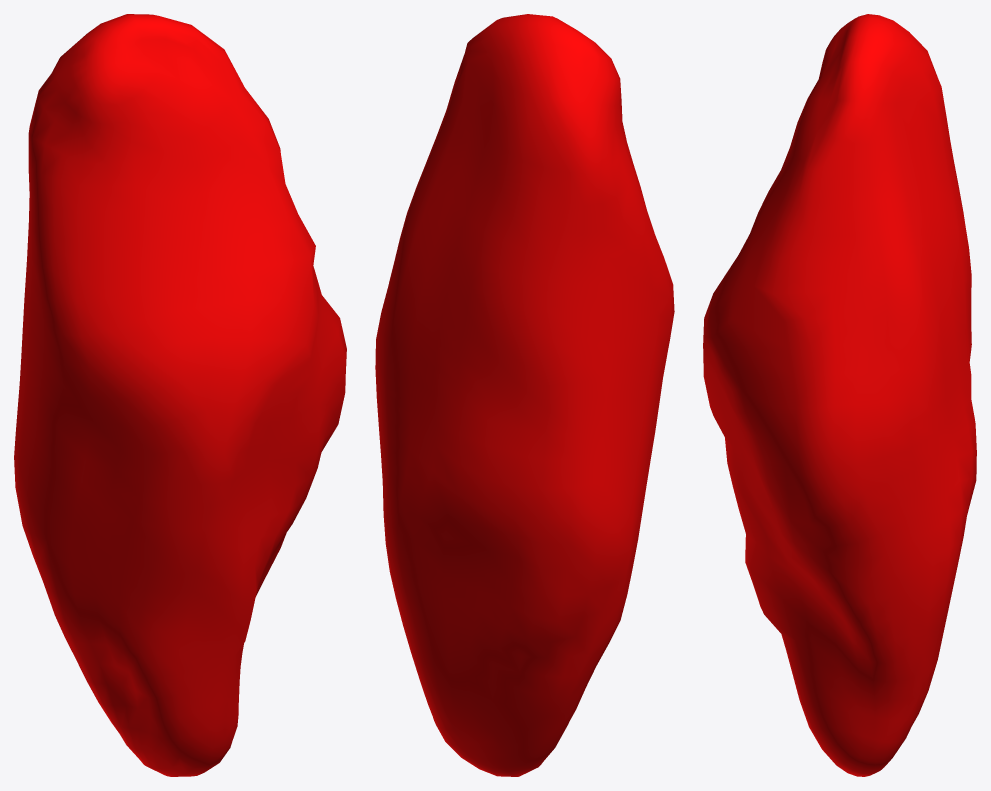
Rendered from crystal_baked.fbx.
3 views of the same model, side by side, from view 1: azimuth 30°, elevation 25°; view 2: azimuth 150°, elevation 25°; view 3: azimuth 270°, elevation 25° (orthographic). The views are drawn at different scales.
Parts seen in each view (by area): view 1: Crystal_Low_Poly; view 2: Crystal_Low_Poly; view 3: Crystal_Low_Poly.
Boxes of the visible parts, x1=… form: Crystal_Low_Poly: x1=14, y1=14, x2=346, y2=776; Crystal_Low_Poly: x1=375, y1=14, x2=674, y2=776; Crystal_Low_Poly: x1=703, y1=14, x2=976, y2=776.
Size of the model in its own units: 0.8177 by 2.11 by 0.7175.
